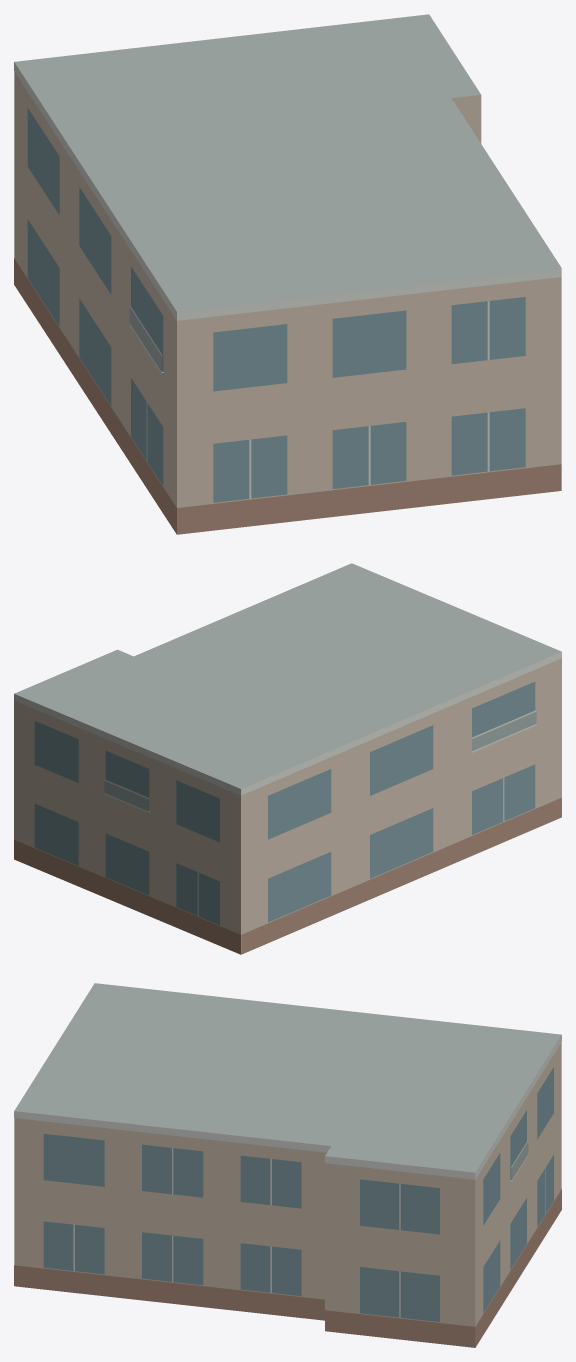
Rendered from survey-upis-33017889.glb.
The picture shows the model from 3 angles, top to bottom: view 1: azimuth 30°, elevation 25°; view 2: azimuth 150°, elevation 25°; view 3: azimuth 270°, elevation 25°; orthographic projection. The views are drawn at different scales.
Parts seen in each view (by area): view 1: survey-upis-33017889.tmp; view 2: survey-upis-33017889.tmp; view 3: survey-upis-33017889.tmp.
Part boxes in pixels (<box>): survey-upis-33017889.tmp: <box>14,14,561,534</box>; survey-upis-33017889.tmp: <box>14,563,561,954</box>; survey-upis-33017889.tmp: <box>14,983,561,1347</box>.
Size of the model in its own units: 14.18 by 6.1 by 17.3.
